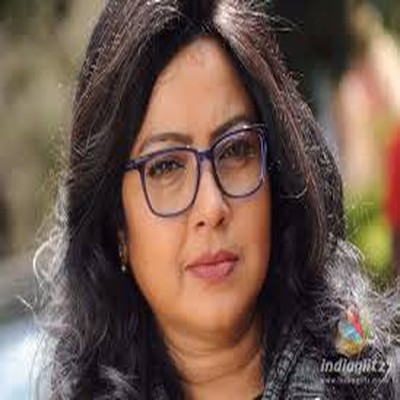eywear: (101, 127, 331, 230)
